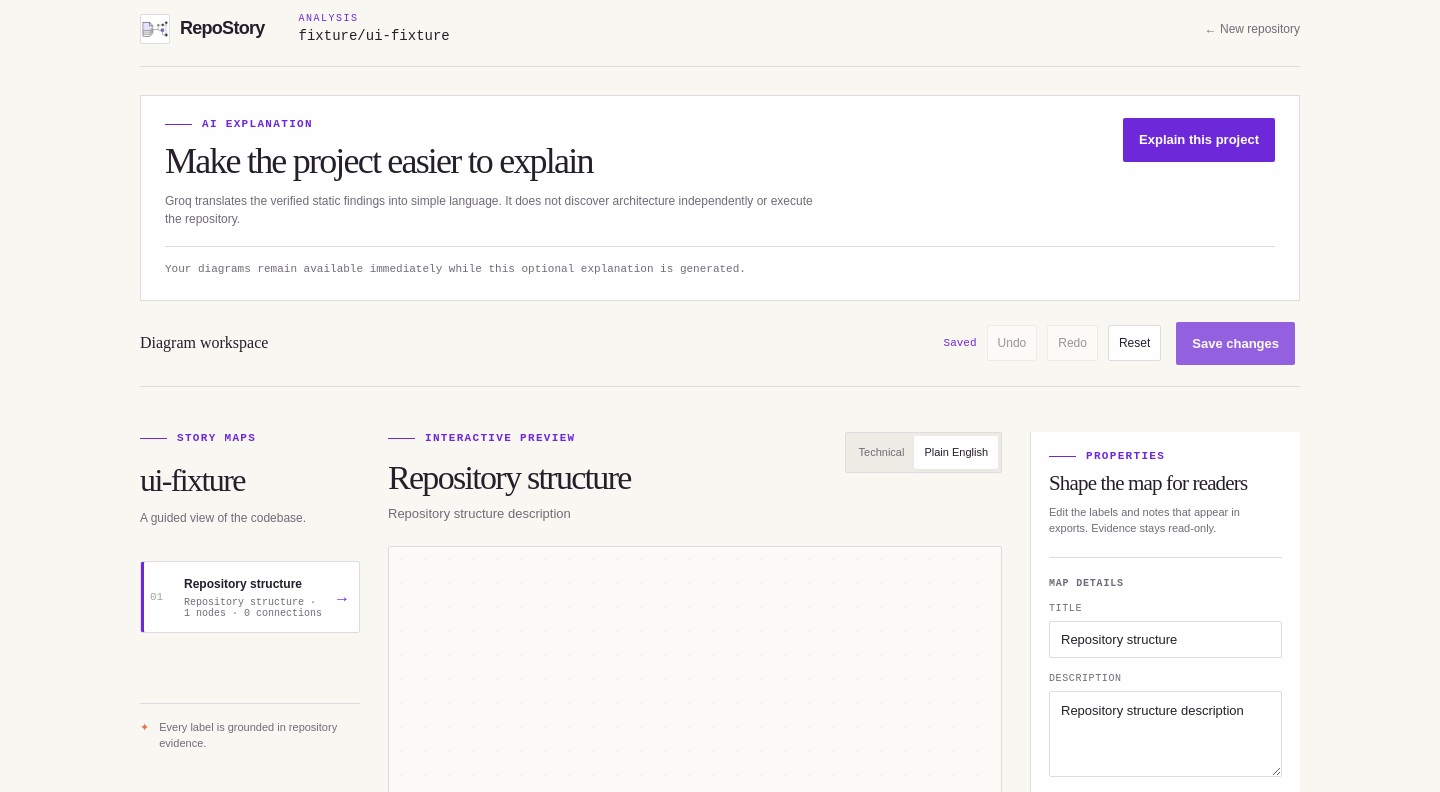
Test: RepoAnalysis diagram navigation › saves the current draft before requesting an export
The image size is (1440, 792).
Expected: the heading "Repository structure" is shown, x1=388 y1=459 x2=631 y2=497
Replace the text in the field labelled "Title" with "Edited title" at (1166, 639), box x1=1049 y1=621 x2=1282 y2=658
(page scrolled)
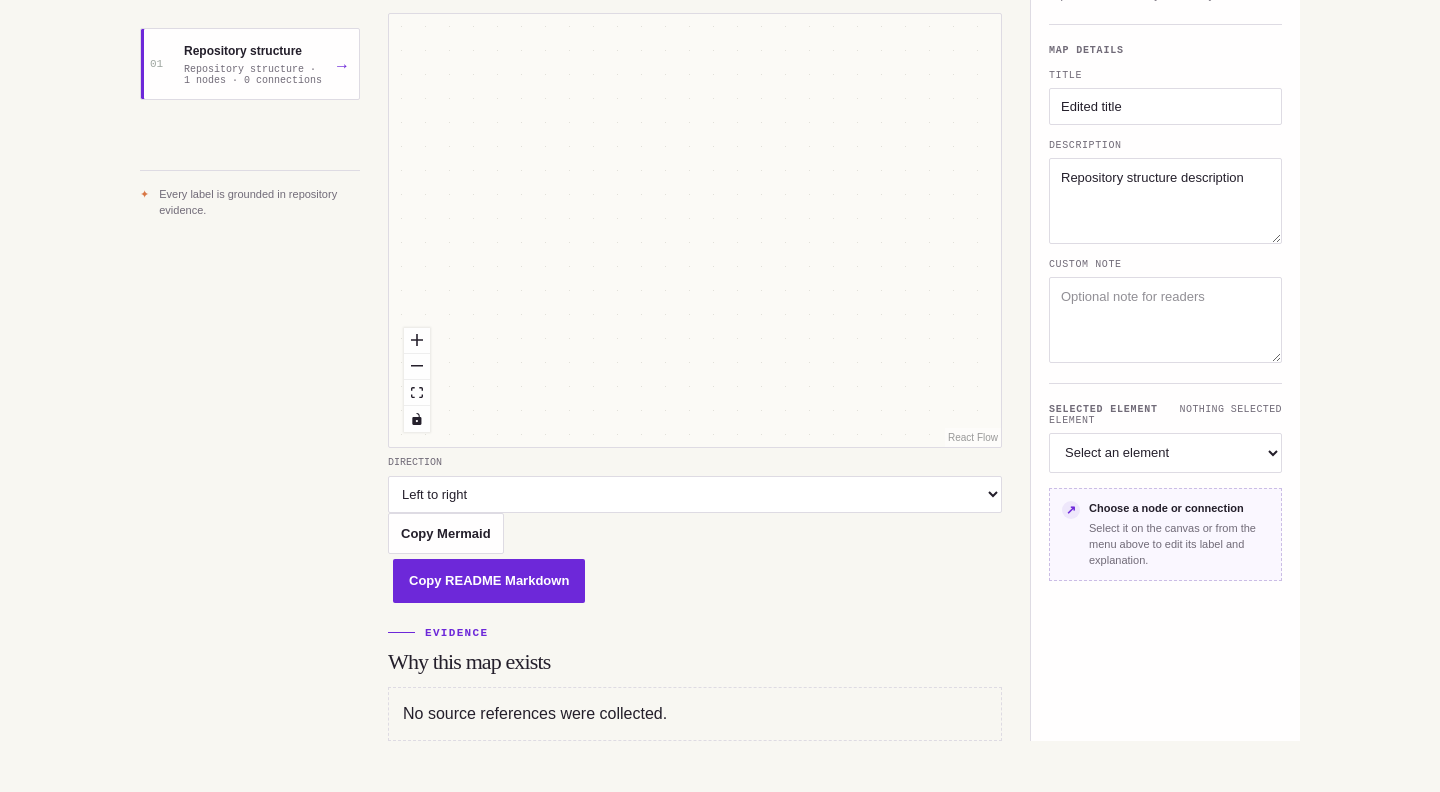
Click the button "Copy README Markdown" at (489, 581), box x1=393 y1=559 x2=585 y2=603
(page scrolled)
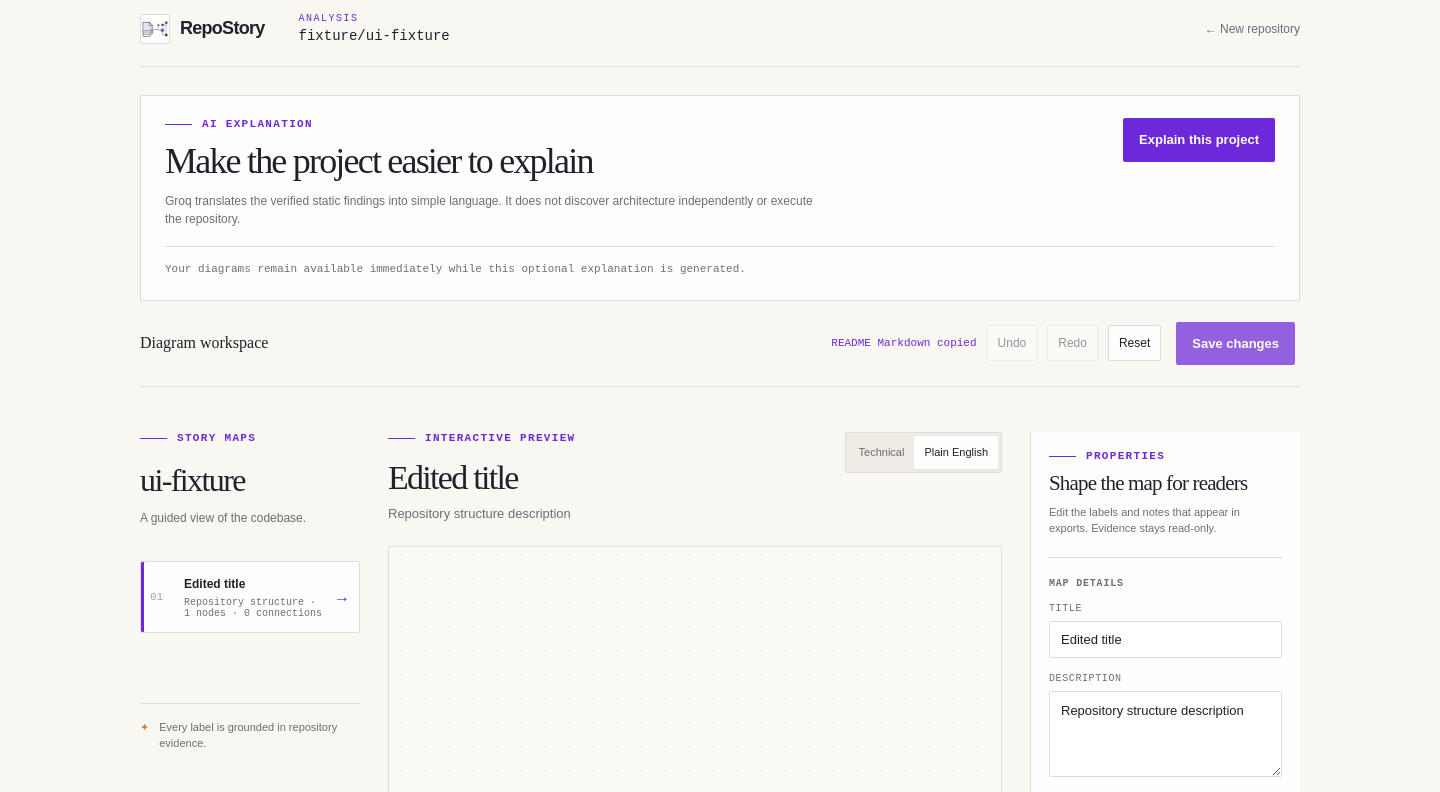
Now the text "README Markdown copied" is shown, box x1=831 y1=337 x2=976 y2=349
